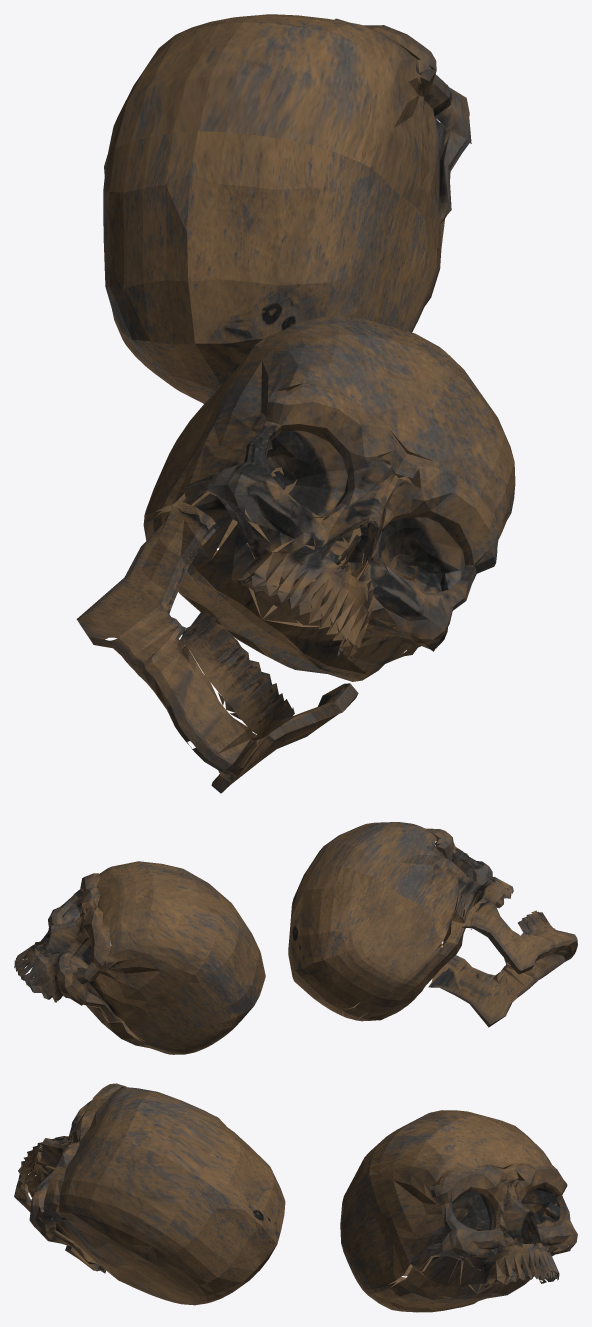
Rendered from skulls.obj.
3 renders of one model, top to bottom at view 1: azimuth 30°, elevation 25°; view 2: azimuth 150°, elevation 25°; view 3: azimuth 270°, elevation 25°, orthographic. The views are drawn at different scales.
Parts seen in each view (by area): view 1: defaultMaterial; view 2: defaultMaterial; view 3: defaultMaterial.
Part boxes in pixels (x1,y1,x2,y2): defaultMaterial: (76, 14, 515, 793); defaultMaterial: (14, 822, 577, 1054); defaultMaterial: (14, 1083, 577, 1312).
Bounding box in the file's own units: 16.33 × 10.24 × 20.49.
